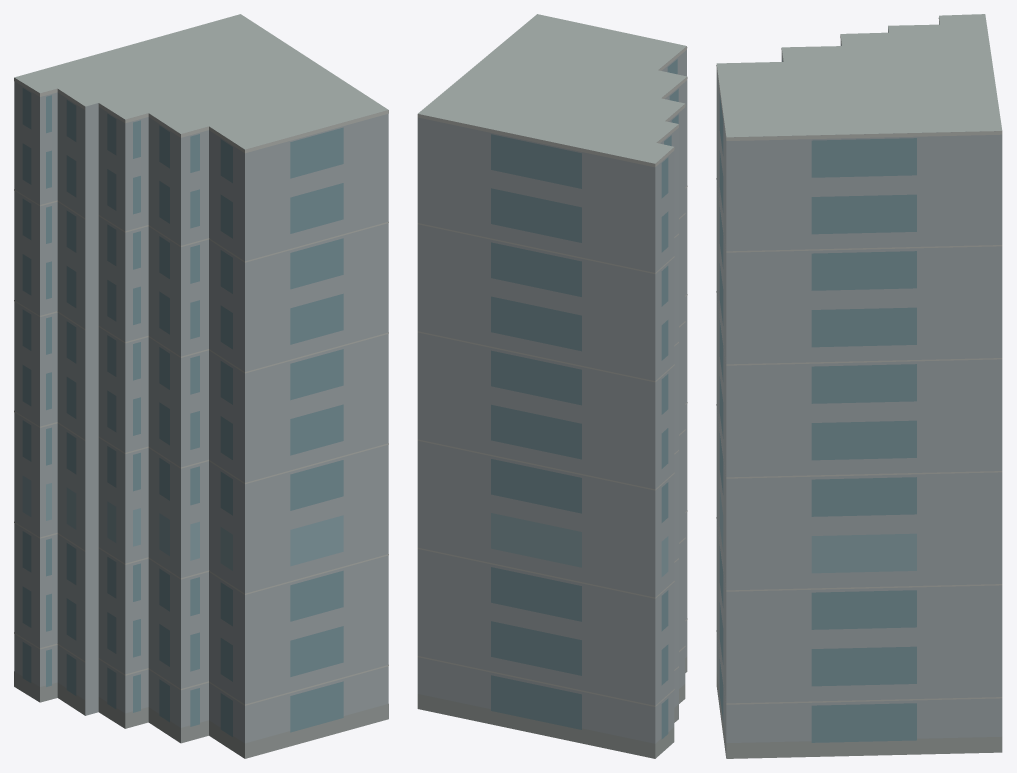
The model's file is survey-upis-32982909.glb.
The picture shows the model from 3 angles, left to right: view 1: azimuth 30°, elevation 25°; view 2: azimuth 150°, elevation 25°; view 3: azimuth 270°, elevation 25°; orthographic projection. The views are drawn at different scales.
Visible parts, largest first — view 1: survey-upis-32982909.tmp; view 2: survey-upis-32982909.tmp; view 3: survey-upis-32982909.tmp.
Boxes of the visible parts, bbox=[...] form: survey-upis-32982909.tmp: bbox=[14, 14, 388, 758]; survey-upis-32982909.tmp: bbox=[417, 14, 687, 758]; survey-upis-32982909.tmp: bbox=[716, 14, 1002, 758].
Bounding box in the file's own units: 16.92 × 39.7 × 16.57.
